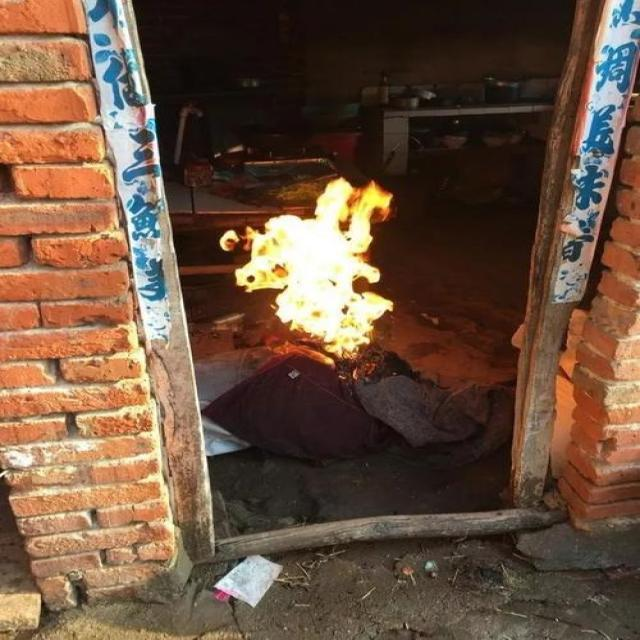Fire: (215, 178, 405, 358)
